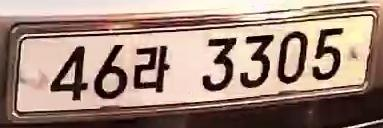0: (276, 30, 309, 86)
3: (199, 34, 238, 93), (238, 34, 276, 89)
4: (52, 41, 94, 106)
5: (310, 26, 346, 82)
6: (94, 40, 132, 103)
라: (131, 41, 172, 96)
